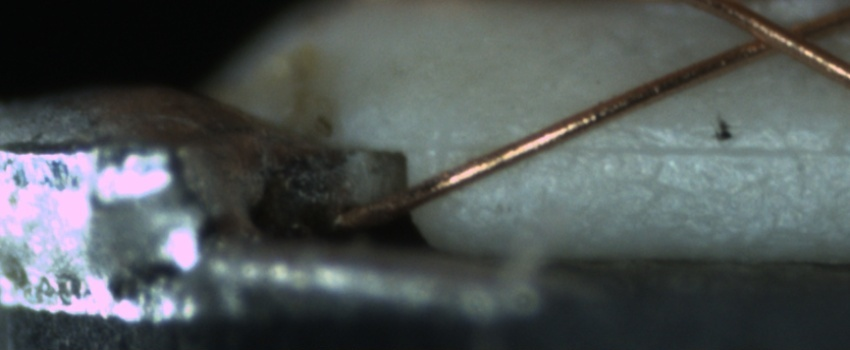CL: (719, 7, 838, 65)
DL: (452, 119, 850, 183)
